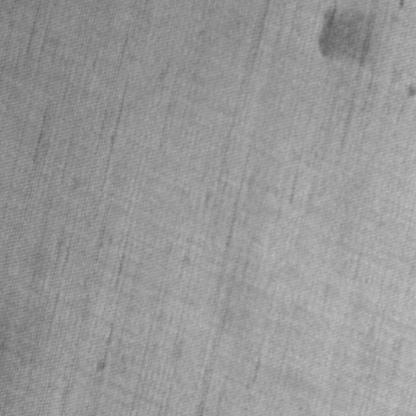oil spot: (316, 6, 378, 78)
